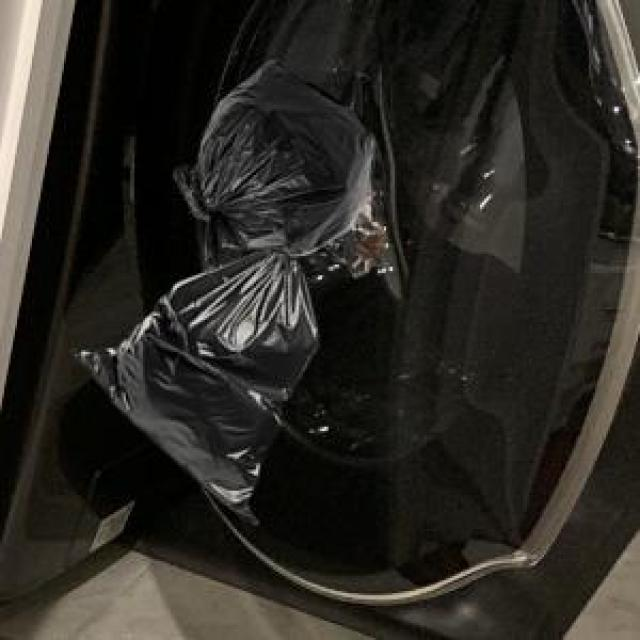miscellaneous trash: (68, 179, 380, 521), (171, 56, 369, 267)
